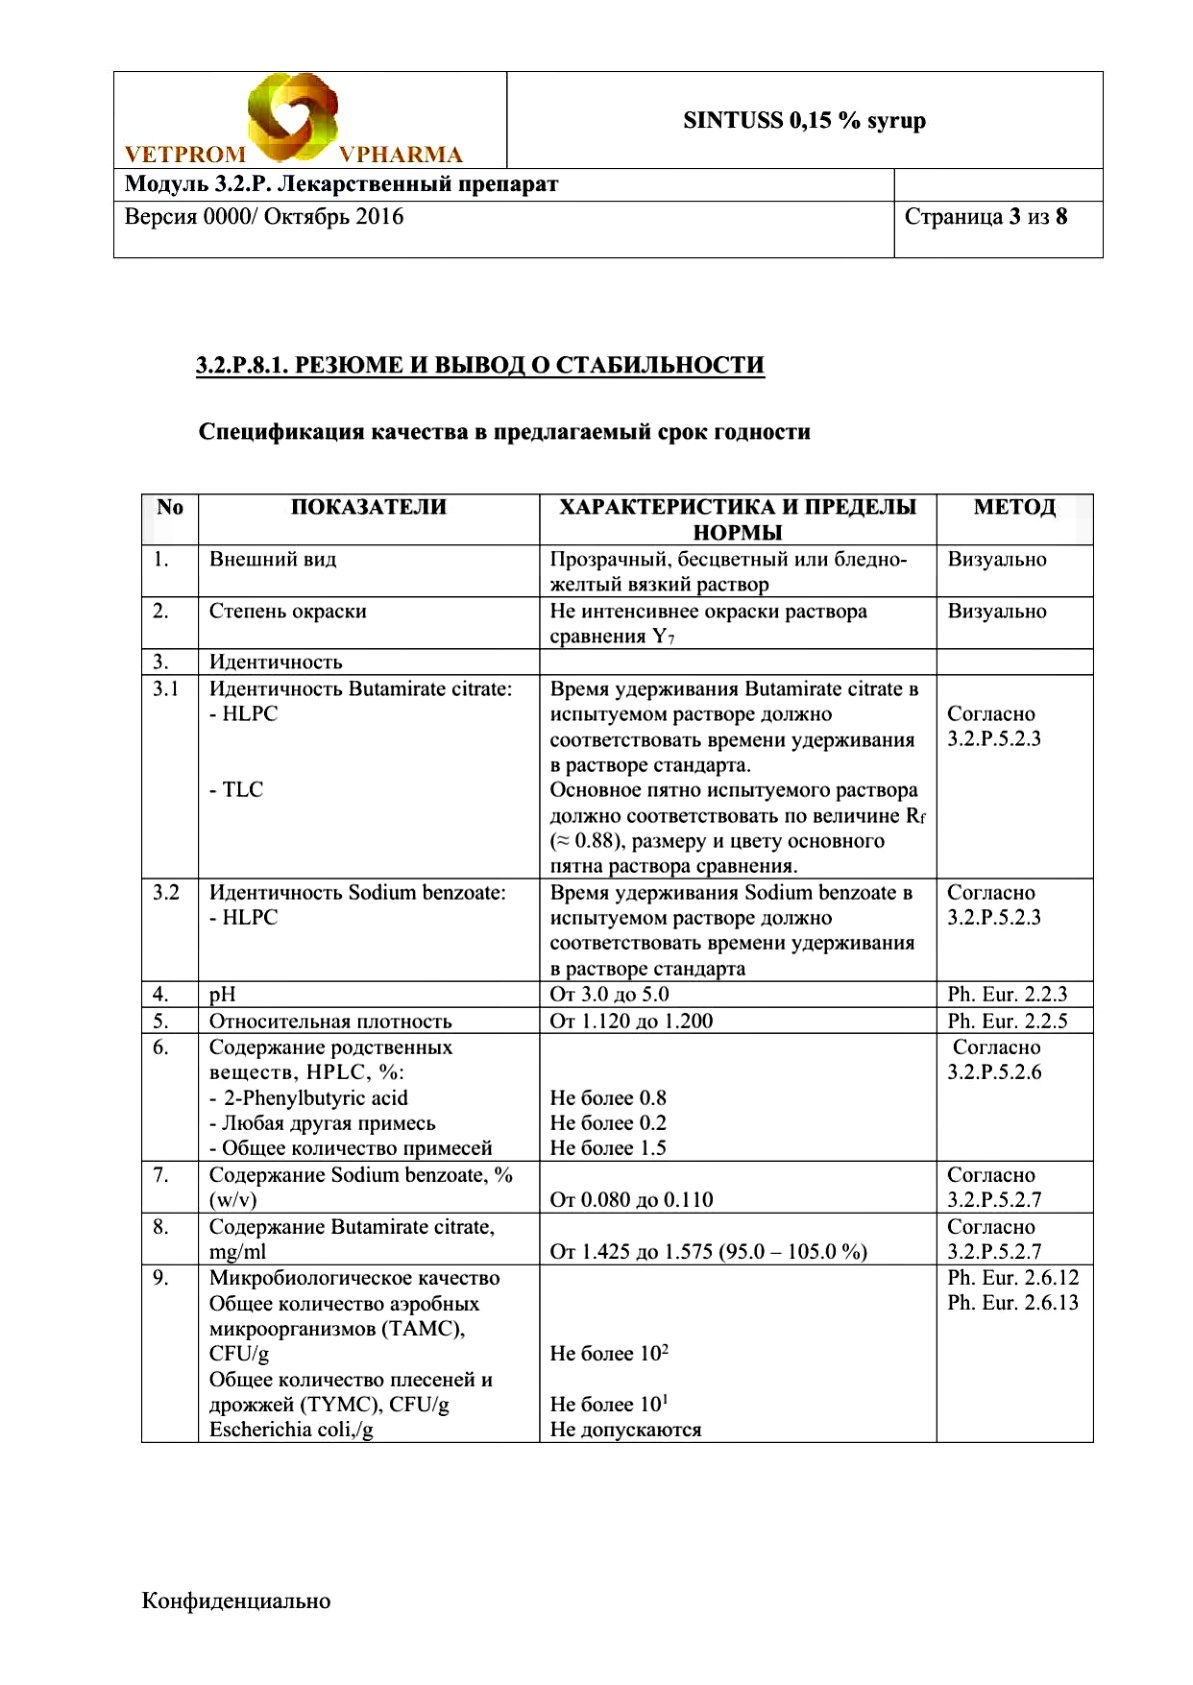full_lined: (139, 493, 1095, 1444)
merged_cells: (112, 70, 1106, 260)
